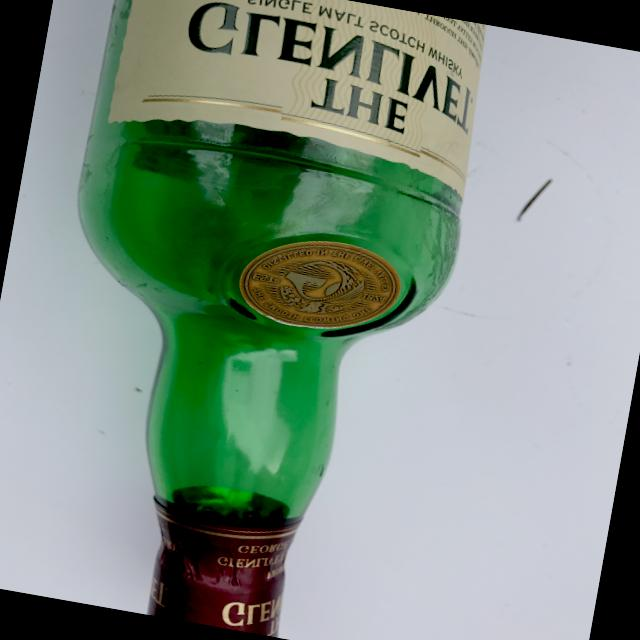Glass: (2, 0, 507, 640)
